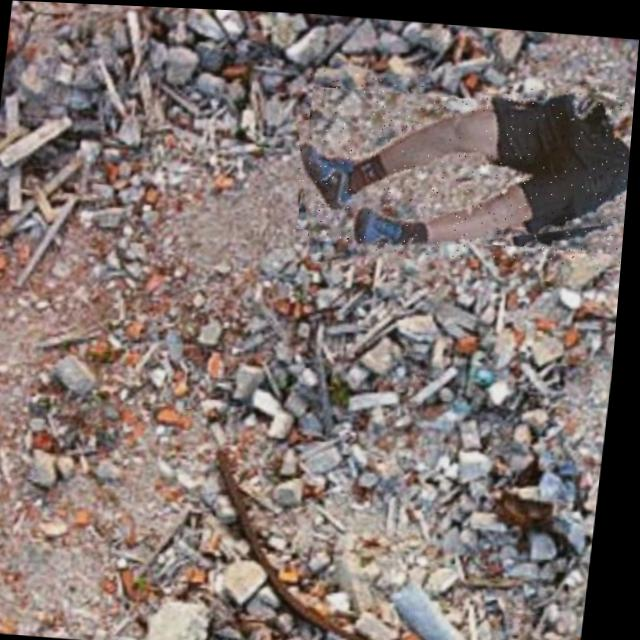Person in Rubble: (291, 65, 637, 264)
